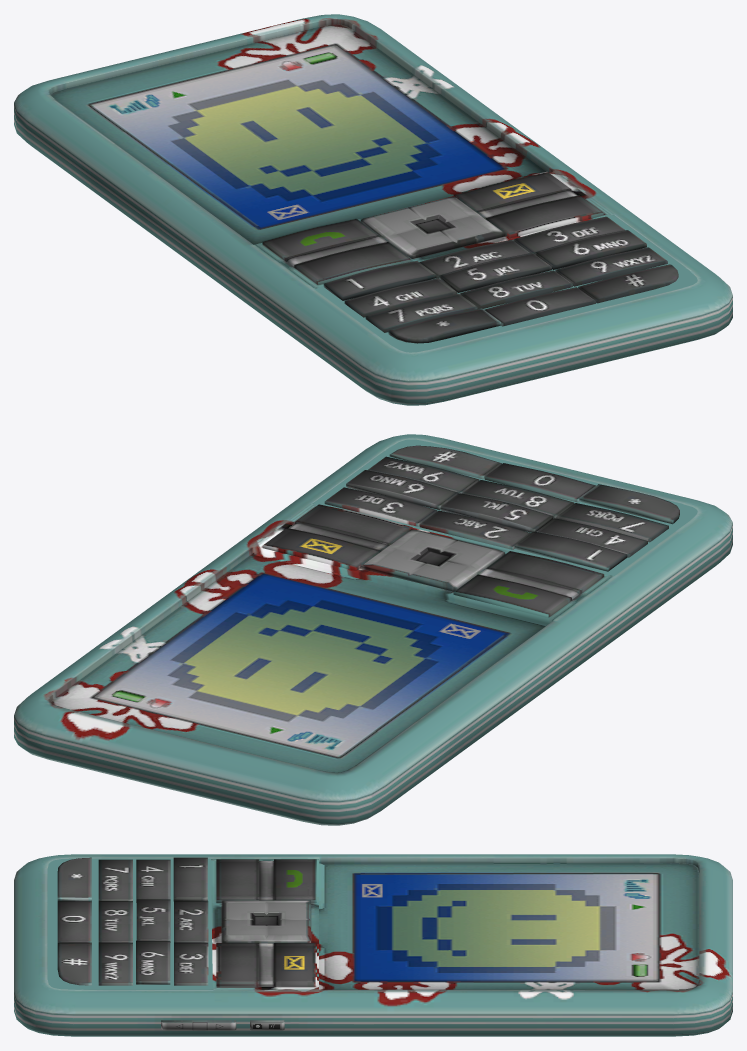
The model's file is Novelty Cell Phone.obj.
3 renders of one model, top to bottom at view 1: azimuth 30°, elevation 25°; view 2: azimuth 150°, elevation 25°; view 3: azimuth 270°, elevation 25°, orthographic. The views are drawn at different scales.
Parts seen in each view (by area): view 1: Mesh_0334.rip_Tex_018, Mesh_0331.rip_Tex_018; view 2: Mesh_0334.rip_Tex_018, Mesh_0331.rip_Tex_018; view 3: Mesh_0334.rip_Tex_018, Mesh_0331.rip_Tex_018.
Boxes of the visible parts, x1=… form: Mesh_0334.rip_Tex_018: x1=14, y1=14, x2=732, y2=405; Mesh_0331.rip_Tex_018: x1=323, y1=230, x2=646, y2=343; Mesh_0334.rip_Tex_018: x1=14, y1=434, x2=732, y2=825; Mesh_0331.rip_Tex_018: x1=346, y1=470, x2=679, y2=571; Mesh_0334.rip_Tex_018: x1=14, y1=854, x2=732, y2=1036; Mesh_0331.rip_Tex_018: x1=57, y1=857, x2=207, y2=984.
Bounding box in the file's own units: 0.56 × 0.08 × 1.07.
